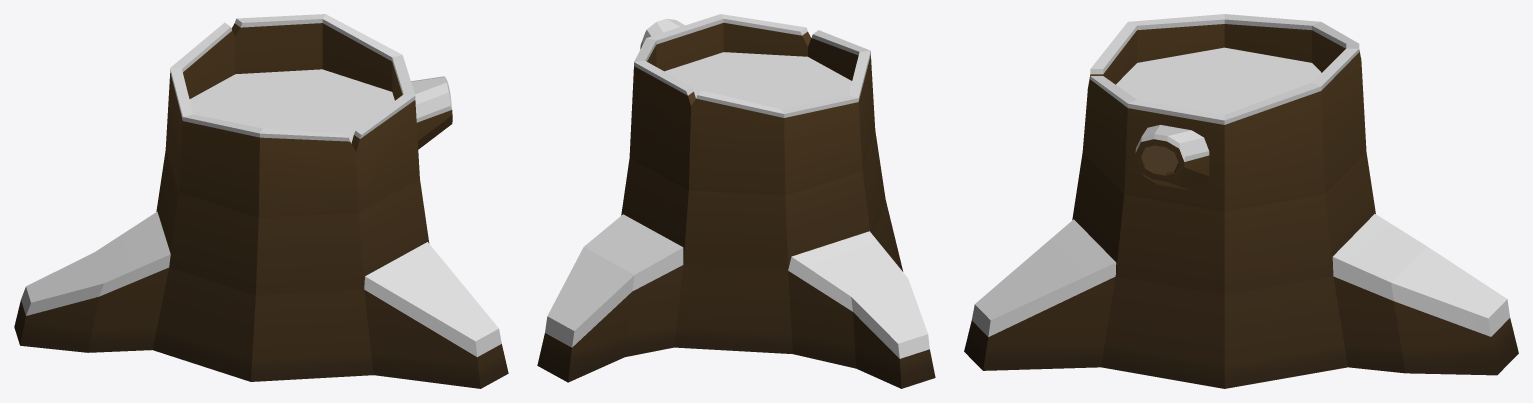
Rendered from Winter_Stump_02.glb.
3 renders of one model, left to right at view 1: azimuth 30°, elevation 25°; view 2: azimuth 150°, elevation 25°; view 3: azimuth 270°, elevation 25°, orthographic. The views are drawn at different scales.
Visible parts, largest first — view 1: Winter_Stump_02_LOD0; view 2: Winter_Stump_02_LOD0; view 3: Winter_Stump_02_LOD0.
Boxes of the visible parts, x1,y1,x2,y2 form: Winter_Stump_02_LOD0: (14, 14, 508, 388); Winter_Stump_02_LOD0: (537, 14, 935, 388); Winter_Stump_02_LOD0: (964, 14, 1518, 388).
Size of what is drawn, in the model's own units: 0.5256 by 0.3505 by 0.6308.
Materials: 1 (1 with a texture image).
